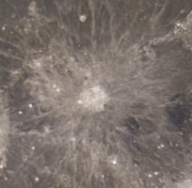crater: (56, 60, 137, 139), (63, 6, 106, 31)
